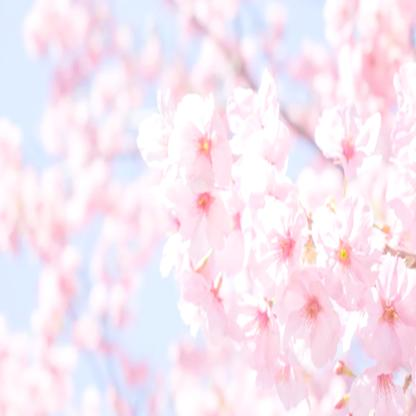Someiyoshino: (0, 1, 416, 414)
